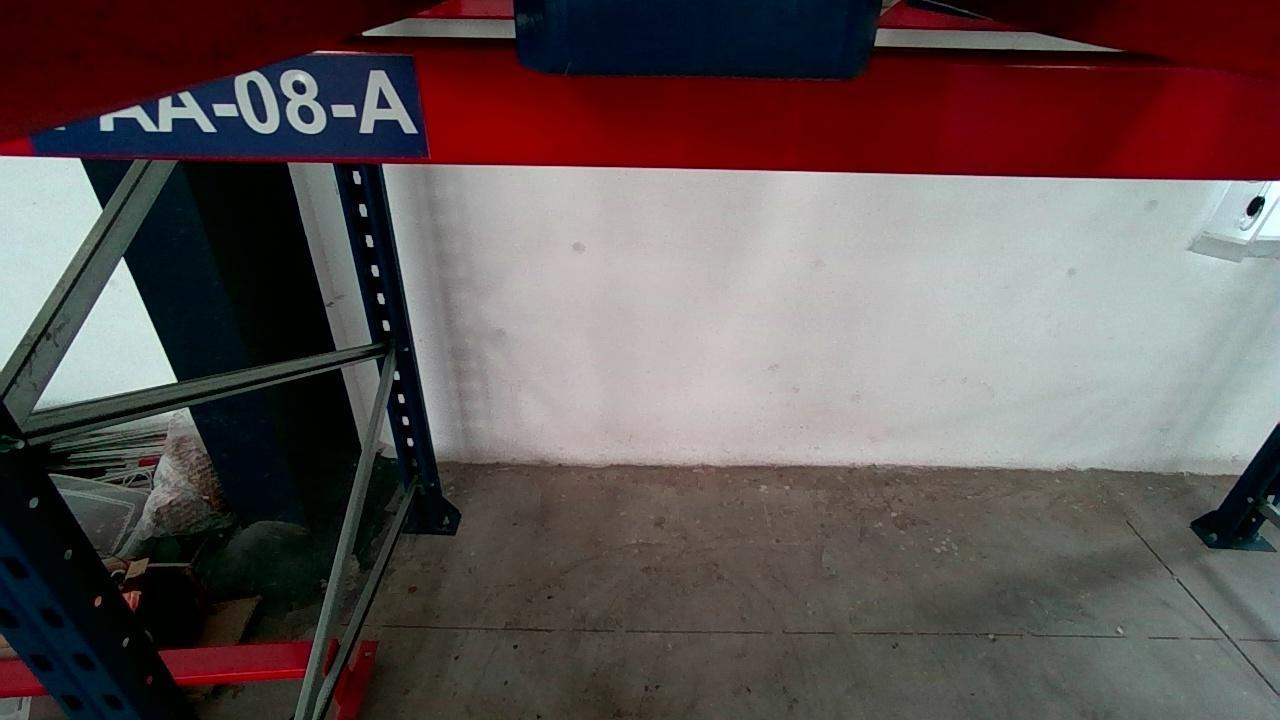h_rack: (1, 49, 1280, 184)
